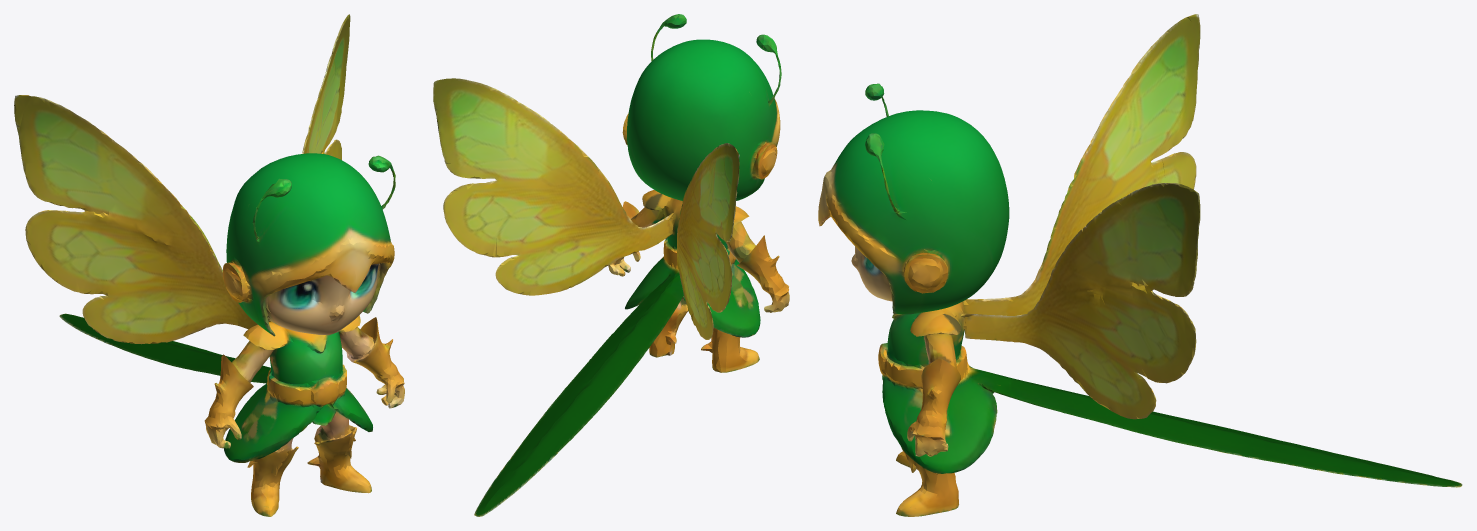
Rendered from FairyWarrior_v2.fbx.
The picture shows the model from 3 angles, left to right: view 1: azimuth 30°, elevation 25°; view 2: azimuth 150°, elevation 25°; view 3: azimuth 270°, elevation 25°; orthographic projection. The views are drawn at different scales.
Visible parts, largest first — view 1: FairyWarrior_v2; view 2: FairyWarrior_v2; view 3: FairyWarrior_v2.
Boxes of the visible parts, bbox=[...] form: FairyWarrior_v2: bbox=[14, 14, 404, 516]; FairyWarrior_v2: bbox=[433, 14, 789, 516]; FairyWarrior_v2: bbox=[818, 14, 1462, 516].
Size of the model in its own units: 1.25 by 1.25 by 1.89.
1 material, 1 textured.
